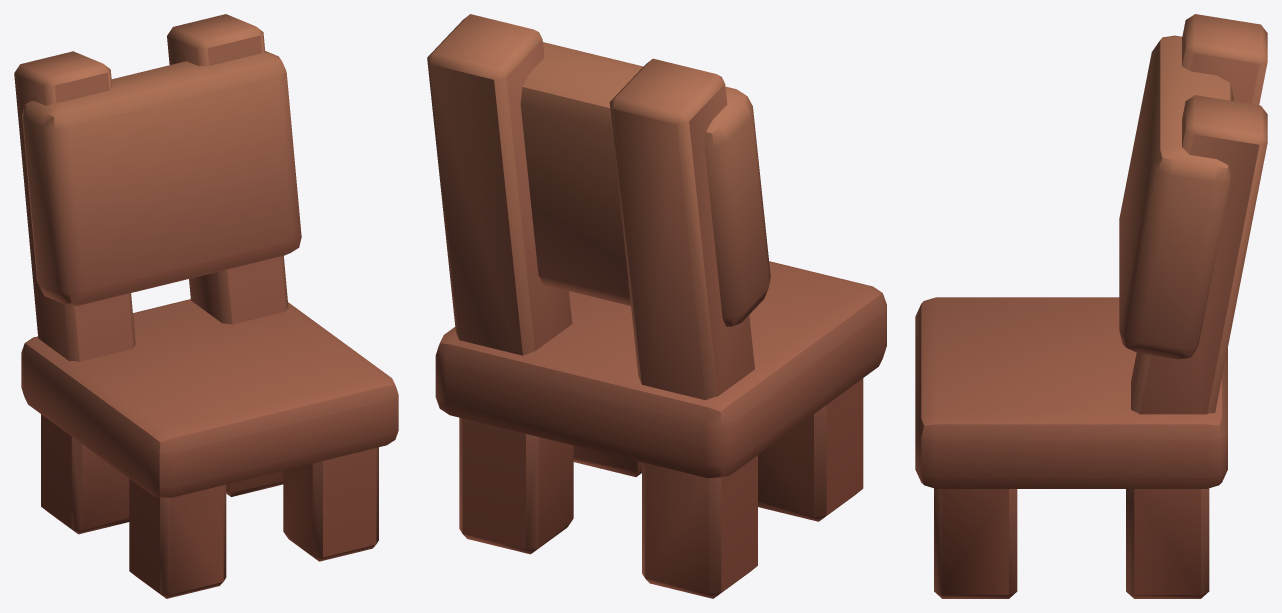
File: chair_B_wood.obj
3 renders of one model, left to right at view 1: azimuth 30°, elevation 25°; view 2: azimuth 150°, elevation 25°; view 3: azimuth 270°, elevation 25°, orthographic. The views are drawn at different scales.
Visible parts, largest first — view 1: chair_B_wood_Cube.002; view 2: chair_B_wood_Cube.002; view 3: chair_B_wood_Cube.002.
Part boxes in pixels (x1=…): chair_B_wood_Cube.002: x1=14, y1=14, x2=398, y2=598; chair_B_wood_Cube.002: x1=427, y1=14, x2=886, y2=598; chair_B_wood_Cube.002: x1=915, y1=14, x2=1267, y2=598.
Bounding box in the file's own units: 0.75 × 1.26 × 0.8451.
Materials: 1 (1 with a texture image).
